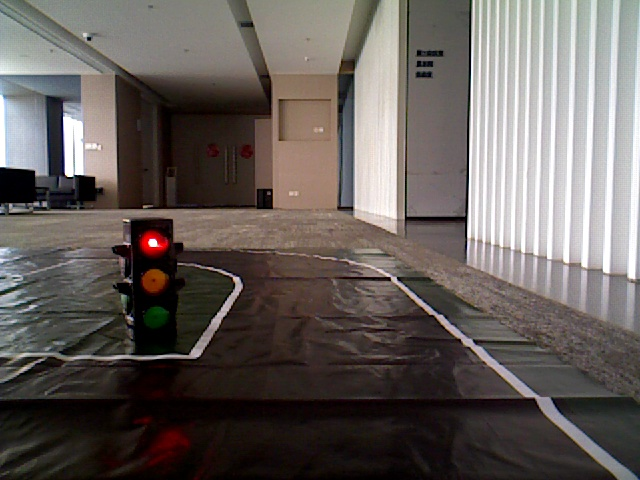red: (128, 218, 172, 338)
